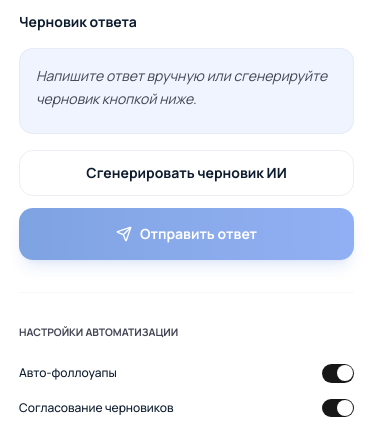
Test: DraftSidebar › regenerates the AI draft and fills the editor with the result
What coordinates should you click on to do the following:
click the button "Сгенерировать черновик ИИ"
I would click on:
 (186, 172)
Its box is [19,150,354,196].
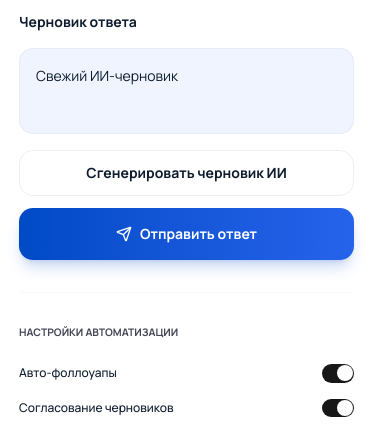
Result: the text box holds "Свежий ИИ-черновик" at [36,65,337,110]
